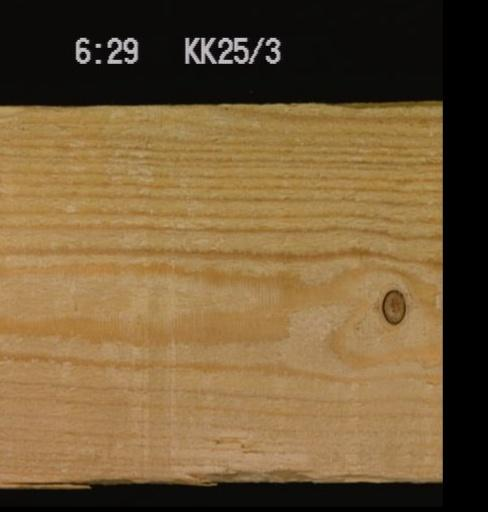dry_knot: (378, 286, 406, 324)
wave: (178, 456, 403, 485)
